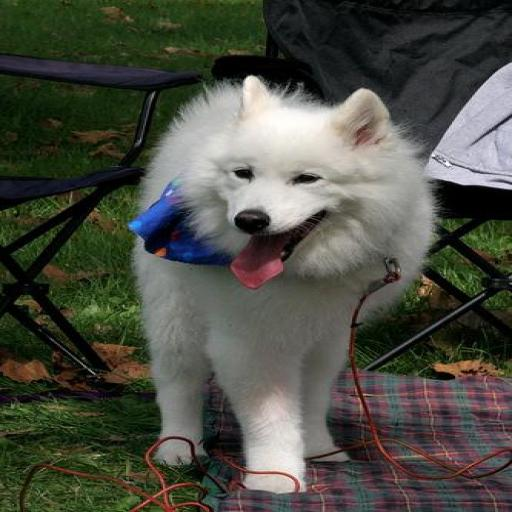dog_face: (187, 78, 391, 274)
